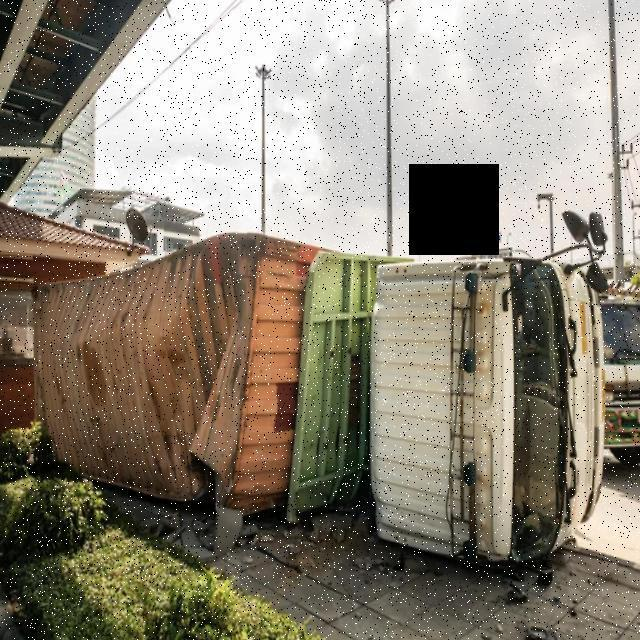accident: (25, 222, 612, 577)
